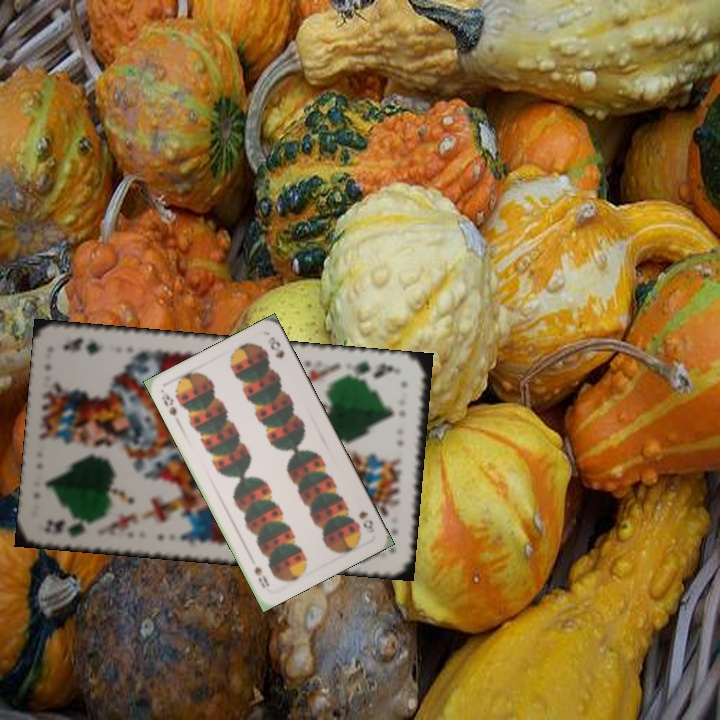GK: (345, 356, 404, 383), (41, 514, 101, 540)
S8: (157, 389, 180, 419), (355, 507, 376, 532)
